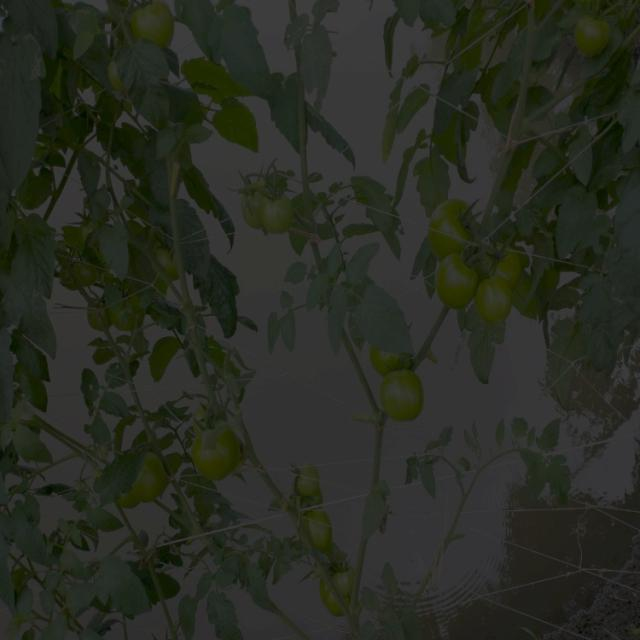tomato: (428, 192, 484, 251), (124, 449, 176, 507), (192, 426, 244, 479), (132, 1, 182, 50), (385, 372, 427, 425), (319, 567, 363, 616), (434, 258, 473, 307), (571, 17, 618, 56), (236, 173, 269, 223), (303, 507, 337, 554), (63, 252, 110, 286), (151, 244, 193, 281), (481, 282, 511, 324), (112, 292, 151, 324), (372, 342, 416, 370), (78, 207, 116, 239), (106, 55, 127, 101), (496, 243, 523, 277), (272, 197, 300, 228), (296, 471, 323, 501), (91, 306, 111, 334)
